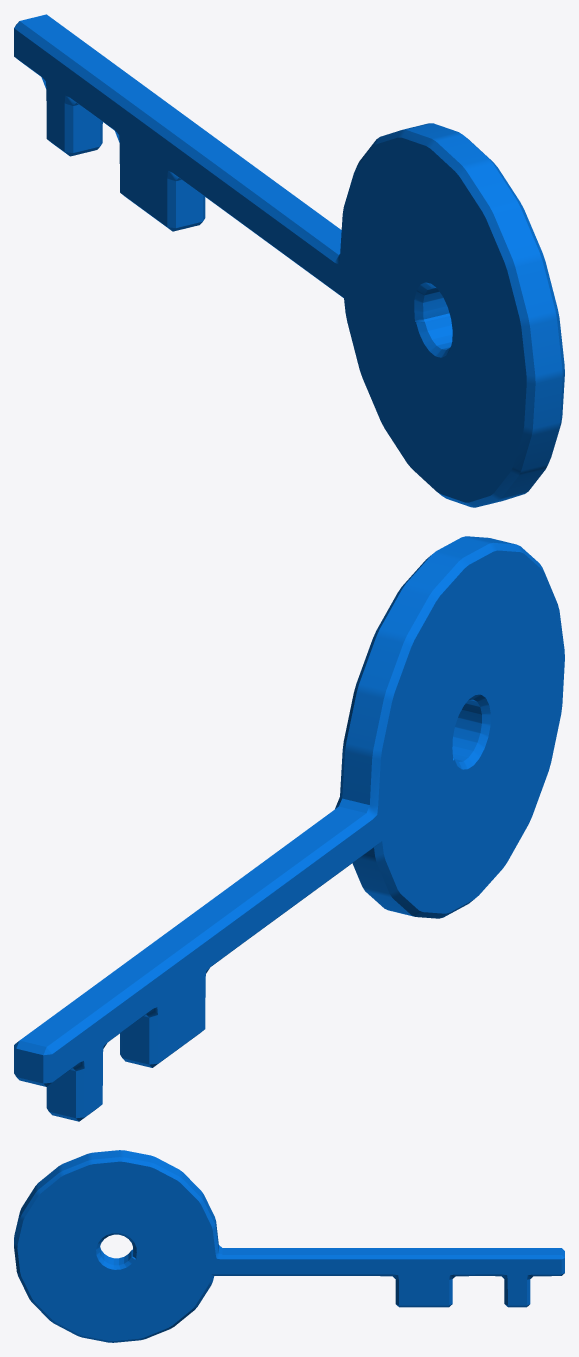
File: Key_Blue.fbx
3 renders of one model, top to bottom at view 1: azimuth 30°, elevation 25°; view 2: azimuth 150°, elevation 25°; view 3: azimuth 270°, elevation 25°, orthographic. The views are drawn at different scales.
Parts seen in each view (by area): view 1: Key_Blue; view 2: Key_Blue; view 3: Key_Blue.
Part boxes in pixels (box(x1,y1,x2,y2)): Key_Blue: box(14, 14, 564, 507); Key_Blue: box(14, 536, 564, 1121); Key_Blue: box(14, 1150, 564, 1342).
Bounding box in the file's own units: 0.6826 × 5.98 × 16.07.
